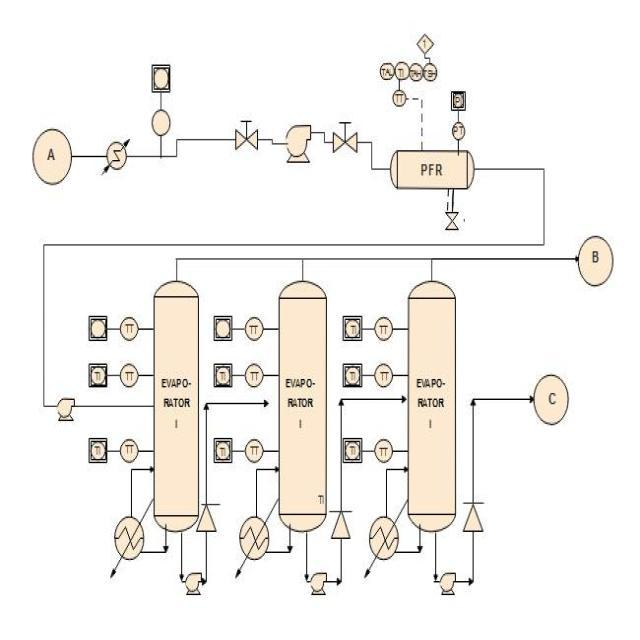Centrifugal Pump: (280, 112, 322, 175), (306, 560, 334, 605), (182, 568, 212, 604), (438, 564, 460, 610)
Gate Valve: (443, 209, 468, 235)
Hand Operated Gate Valve: (227, 102, 264, 165), (328, 114, 366, 161)
